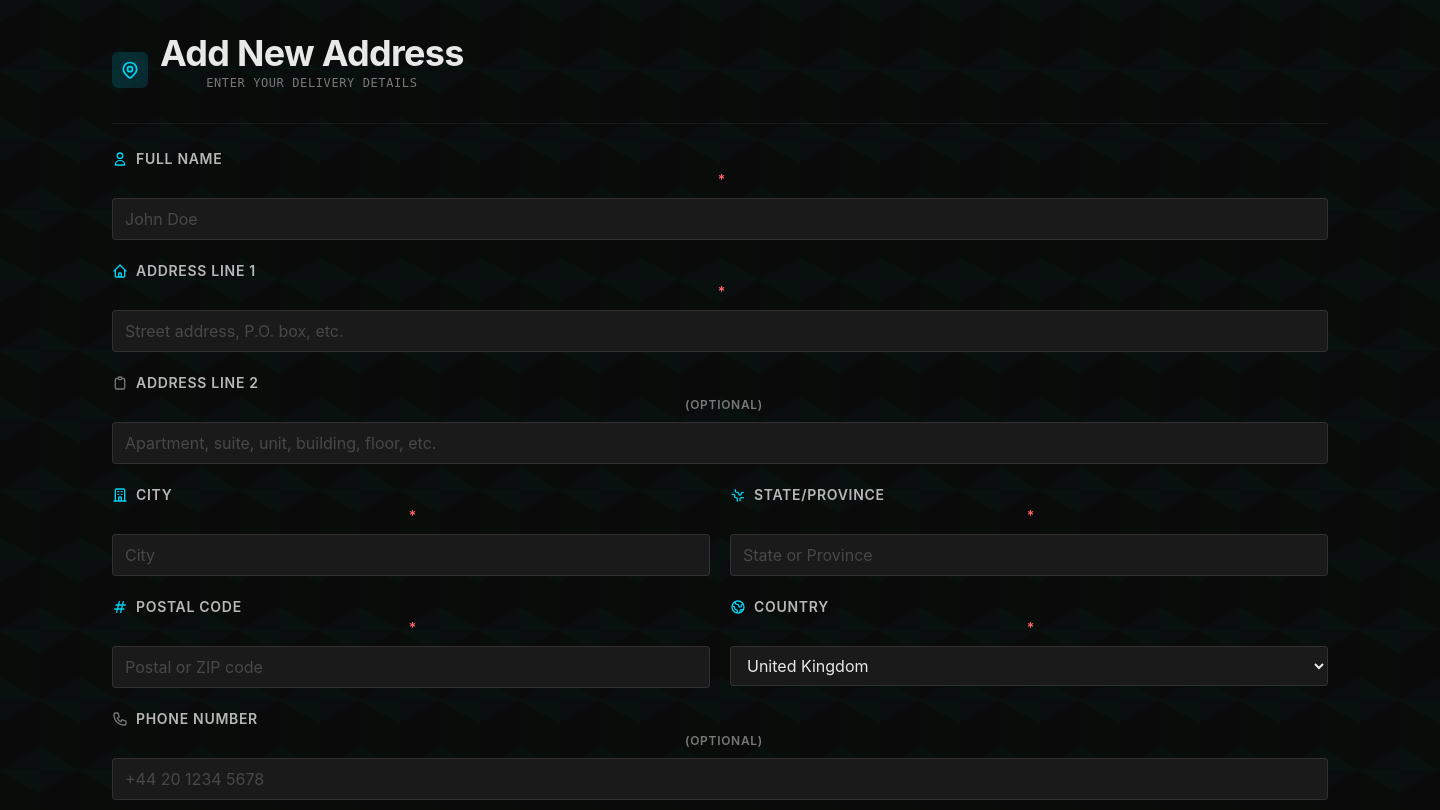
Test case: AddressForm › Form Validation › should validate phone number format on blur
In the field labelled "Phone Number (Optional)": (720, 779) [112,758,1328,800], type "invalid-phone"
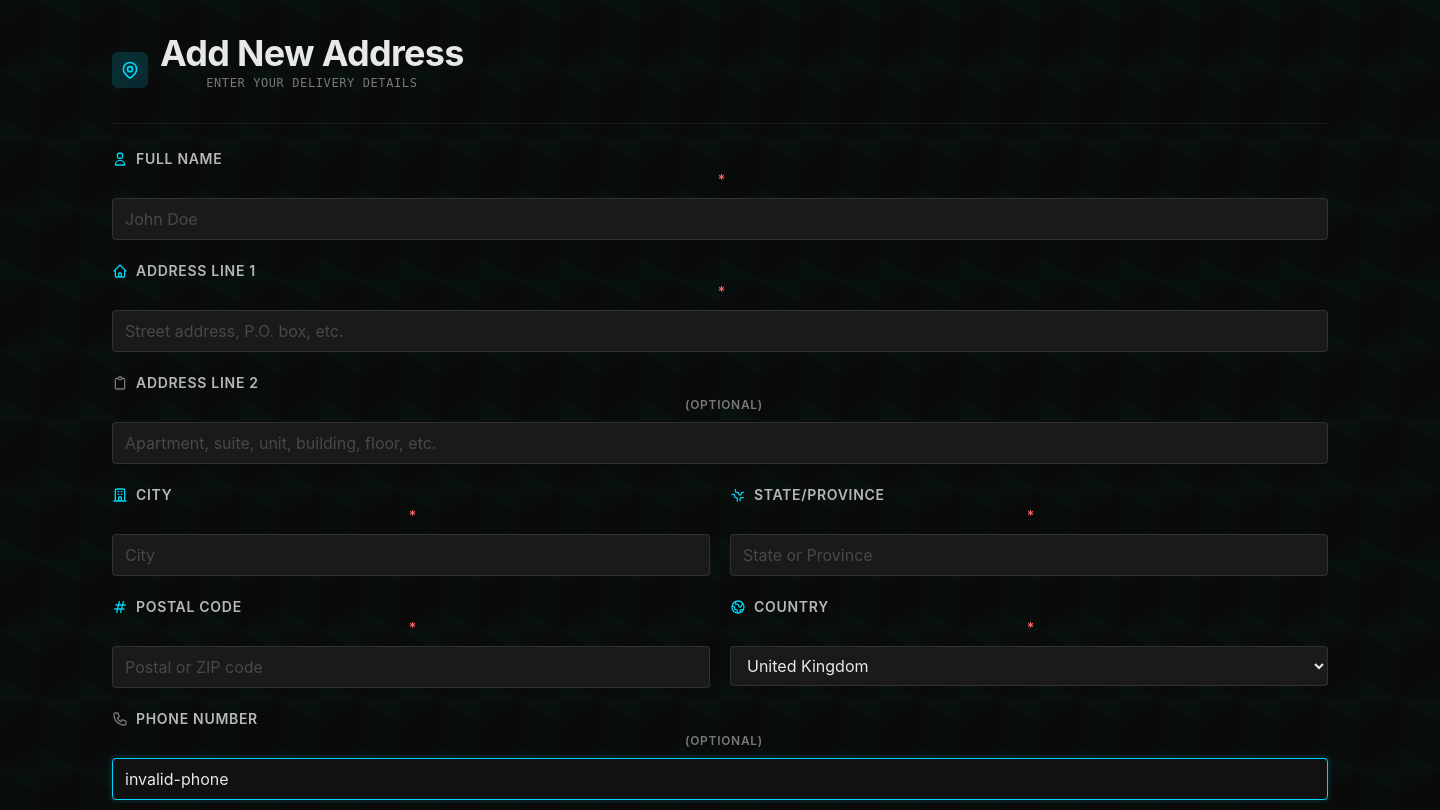
Press Tab
(page scrolled)
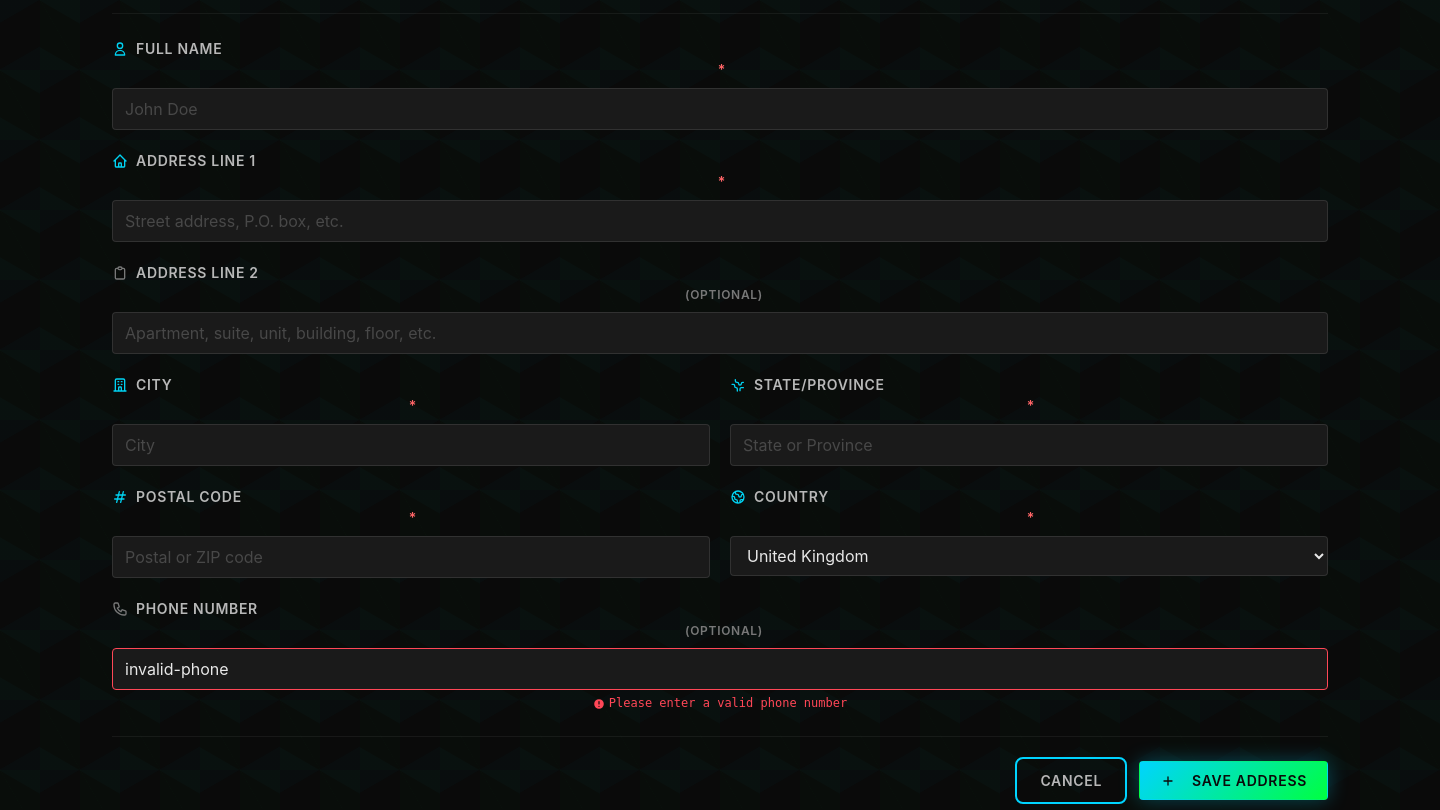
Result: the text "Please enter a valid phone number" is shown at [593,696,847,710]
